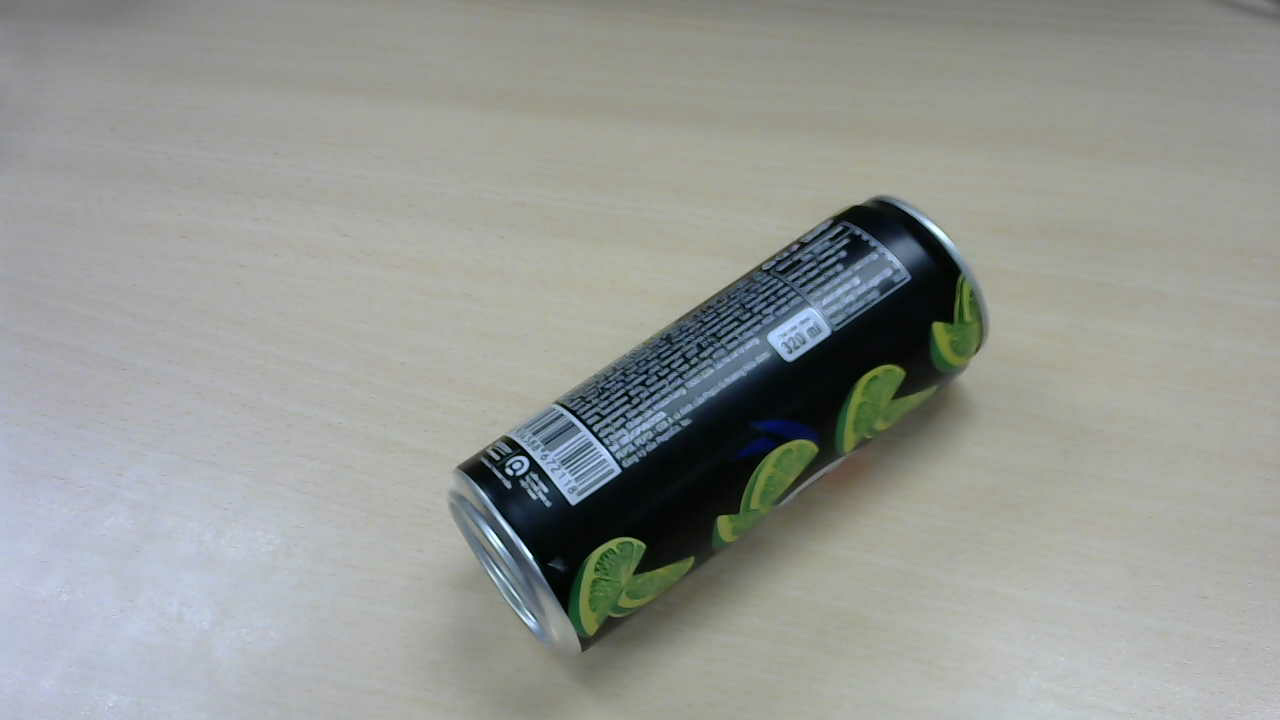Pepsi: (453, 203, 990, 661)
